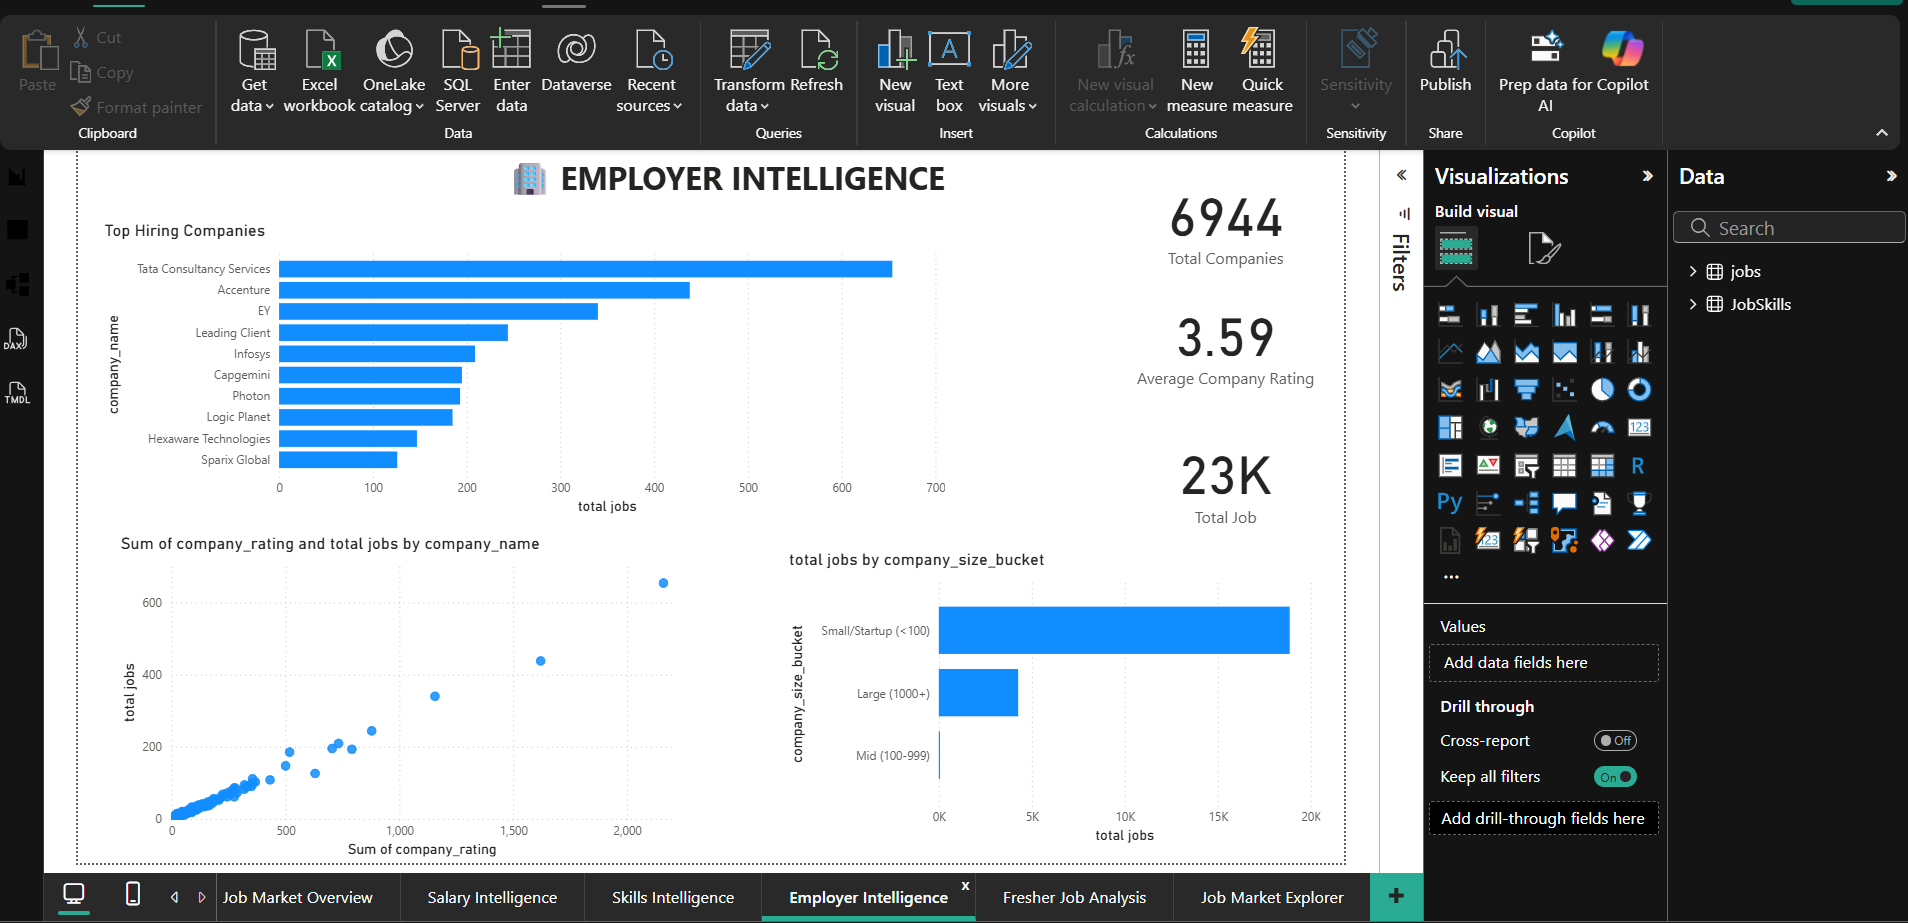

Layout of this report page (visuals, bound fields, positions):
{"tool":"powerbi","page":{"name":"Employer Intelligence","canvas":[1280,720],"ordinal":3},"visuals":[{"type":"textbox","box":[430,0,472.3,71],"z":0},{"type":"clusteredBarChart","title":"Top Hiring Companies","fields":{"Category":["jobs.company_name"],"Y":["jobs.total jobs"]},"box":[21.8,71,860,301.7],"z":1000},{"type":"scatterChart","fields":{"X":["Sum(jobs.company_rating)"],"Y":["jobs.total jobs"],"Category":["jobs.company_name"]},"box":[38.2,387.7,582.9,331.7],"z":2000},{"type":"clusteredBarChart","fields":{"Category":["jobs.company_size_bucket"],"Y":["jobs.total jobs"]},"box":[713.9,404,547.4,301.7],"z":3000},{"type":"card","fields":{"Values":["jobs.Total Companies"]},"box":[1040.1,15,240.2,111.9],"z":4000},{"type":"card","fields":{"Values":["jobs.Average Company Rating"]},"box":[1040.1,137.9,240.2,109.2],"z":5000},{"type":"card","fields":{"Values":["jobs.Total Job"]},"box":[1040.1,277.1,240.2,110.6],"z":6000}]}

Visuals, with their boxes on the page's 1280x720 design canvas (x1, y1, x2, y2). These are canvas units, not pixel positions in the 1908x923 screenshot, which may show the page scaled, cropped or inside an application window:
textbox: (430,0,902,71)
"Top Hiring Companies" clusteredBarChart: (22,71,882,373)
scatterChart - Sum(jobs.company_rating) x jobs.total jobs: (38,388,621,719)
clusteredBarChart - jobs.company_size_bucket x jobs.total jobs: (714,404,1261,706)
card - jobs.Total Companies: (1040,15,1280,127)
card - jobs.Average Company Rating: (1040,138,1280,247)
card - jobs.Total Job: (1040,277,1280,388)
